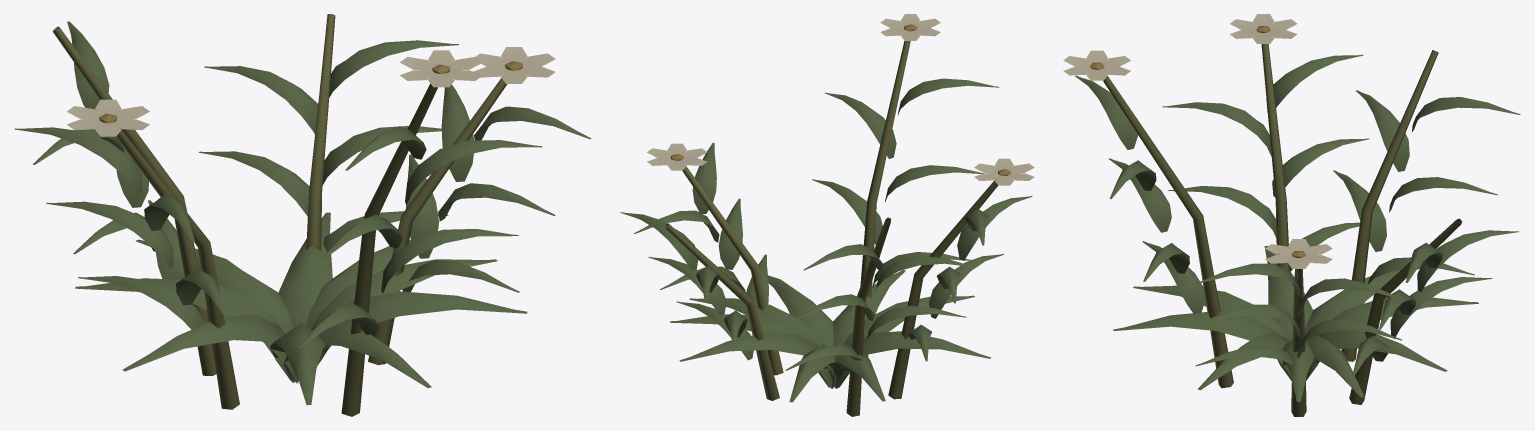
3 views of the same model, side by side, from view 1: azimuth 30°, elevation 25°; view 2: azimuth 150°, elevation 25°; view 3: azimuth 270°, elevation 25° (orthographic). The views are drawn at different scales.
Parts seen in each view (by area): view 1: ground_herb_near; view 2: ground_herb_near; view 3: ground_herb_near.
Part boxes in pixels (left/top/right/bottom): ground_herb_near: left=14, top=14, right=591, bottom=416; ground_herb_near: left=620, top=14, right=1034, bottom=416; ground_herb_near: left=1063, top=14, right=1520, bottom=416.
Size of the model in its own units: 0.5842 by 0.4464 by 0.5651.
